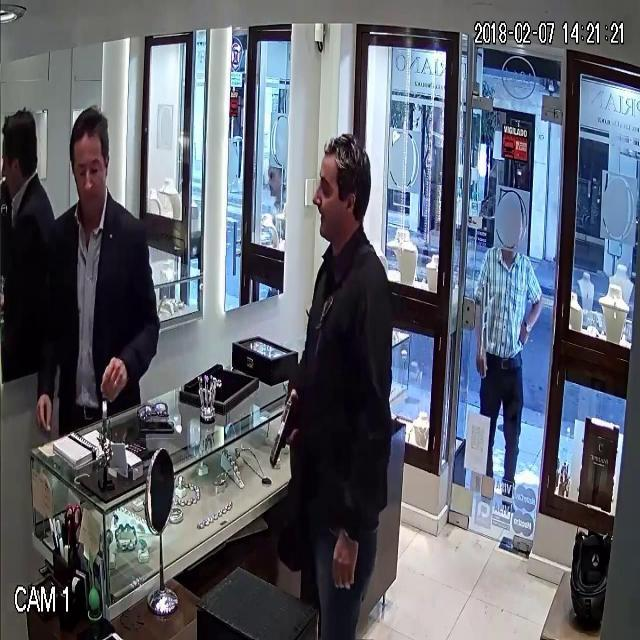weapon: (262, 368, 306, 484)
